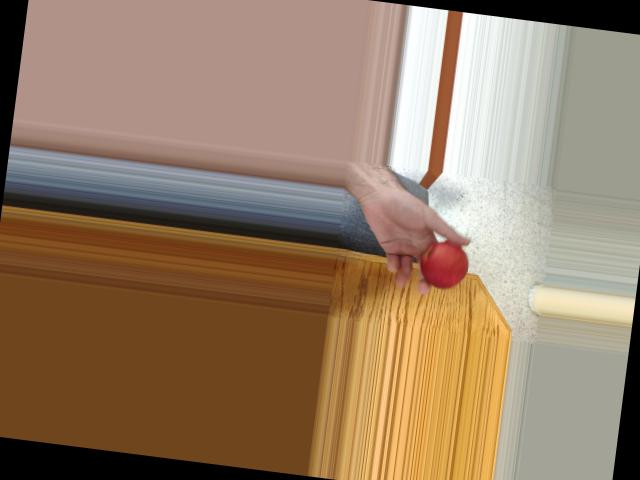apple: (417, 231, 475, 291)
